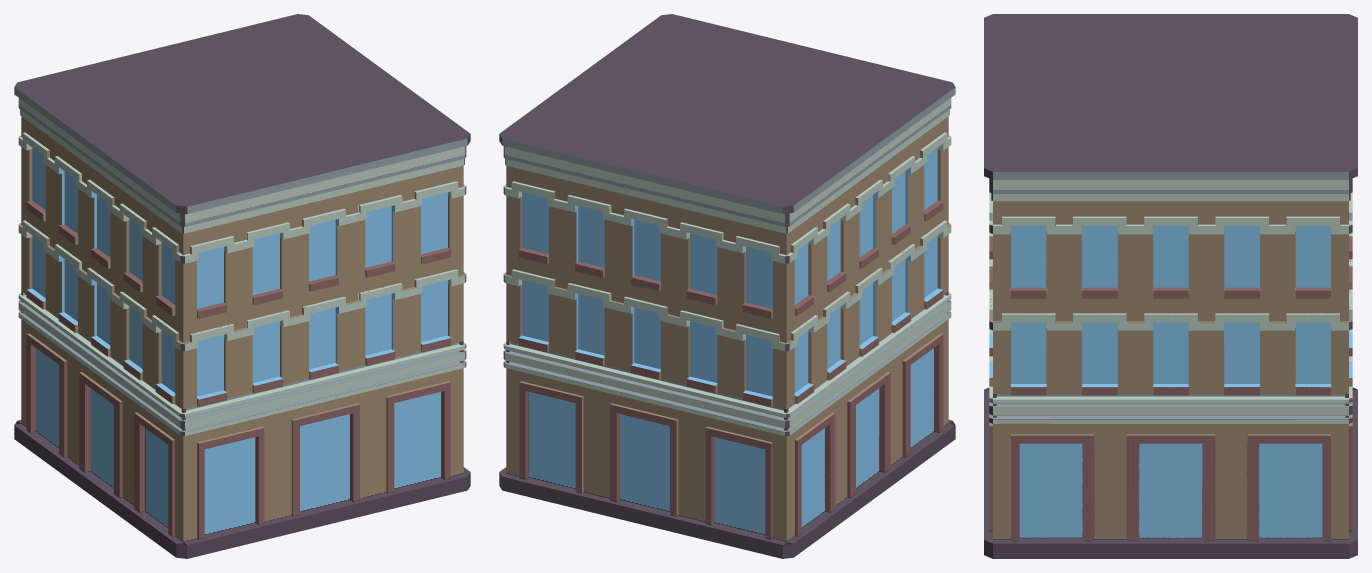
File: building3.glb
3 views of the same model, side by side, from view 1: azimuth 30°, elevation 25°; view 2: azimuth 150°, elevation 25°; view 3: azimuth 270°, elevation 25° (orthographic). The views are drawn at different scales.
Parts seen in each view (by area): view 1: 4; view 2: 4; view 3: 4.
Part boxes in pixels (<box>): 4: <box>14,14,470,558</box>; 4: <box>499,14,955,558</box>; 4: <box>984,14,1357,558</box>.
Bounding box in the file's own units: 10.5 × 12 × 10.5.
4 materials, 4 textured.
